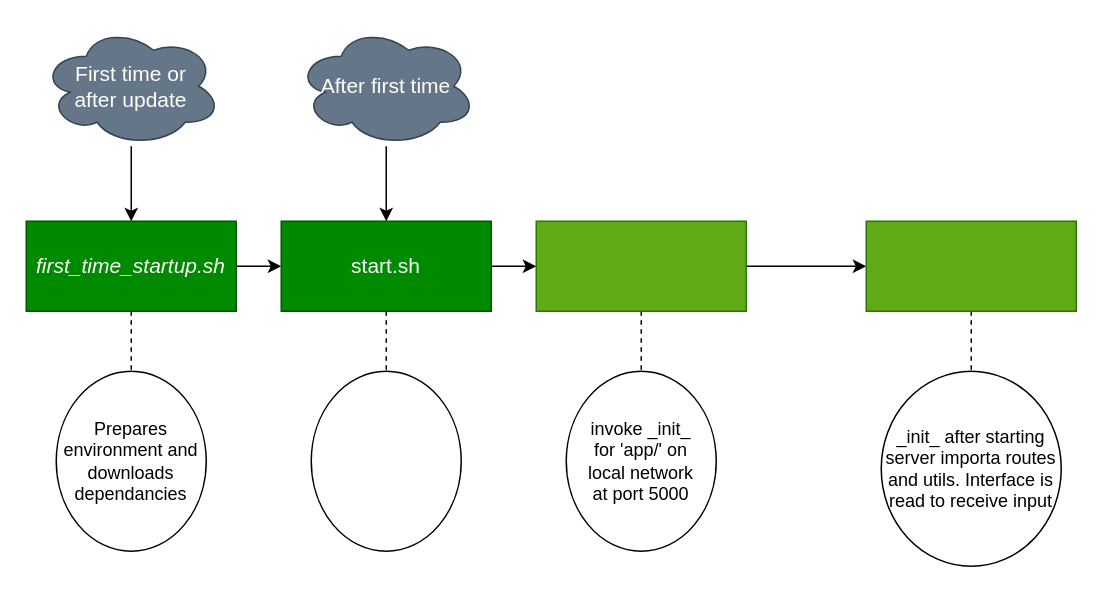
The diagram is 1103 pixels wide and 593 high, and some of its shapes have lost their labels. Here are the shapes that lost their labels. From the top down, the centre of each, then its label:
At (x=640, y=265): "run.py".
At (x=970, y=265): "app".
At (x=385, y=460): "Activates environment and runs run.py".
